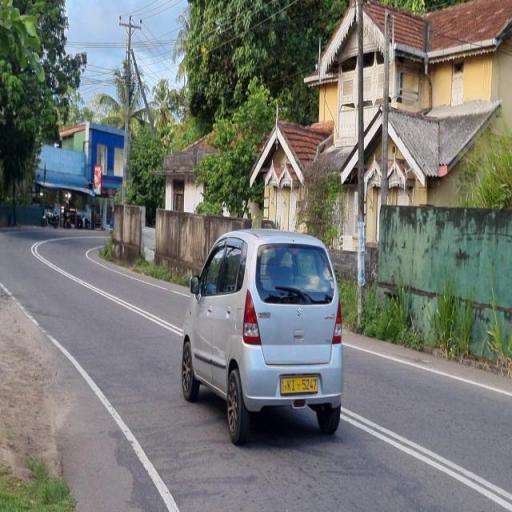double_white_line: (341, 403, 510, 512), (28, 236, 182, 338)
